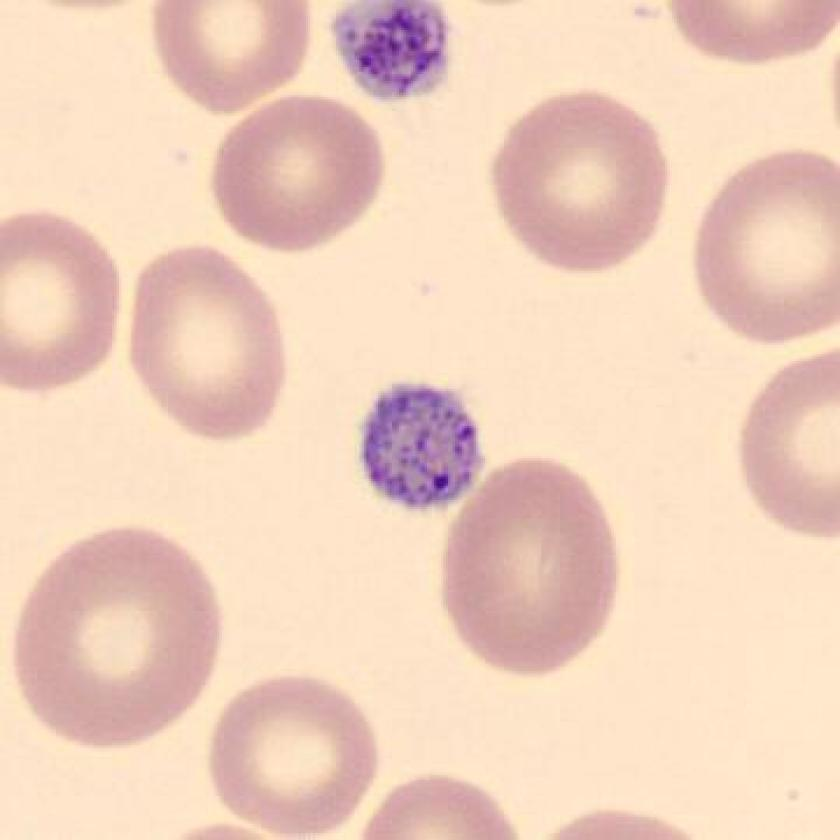platelets: (354, 374, 494, 520), (323, 1, 454, 112)
